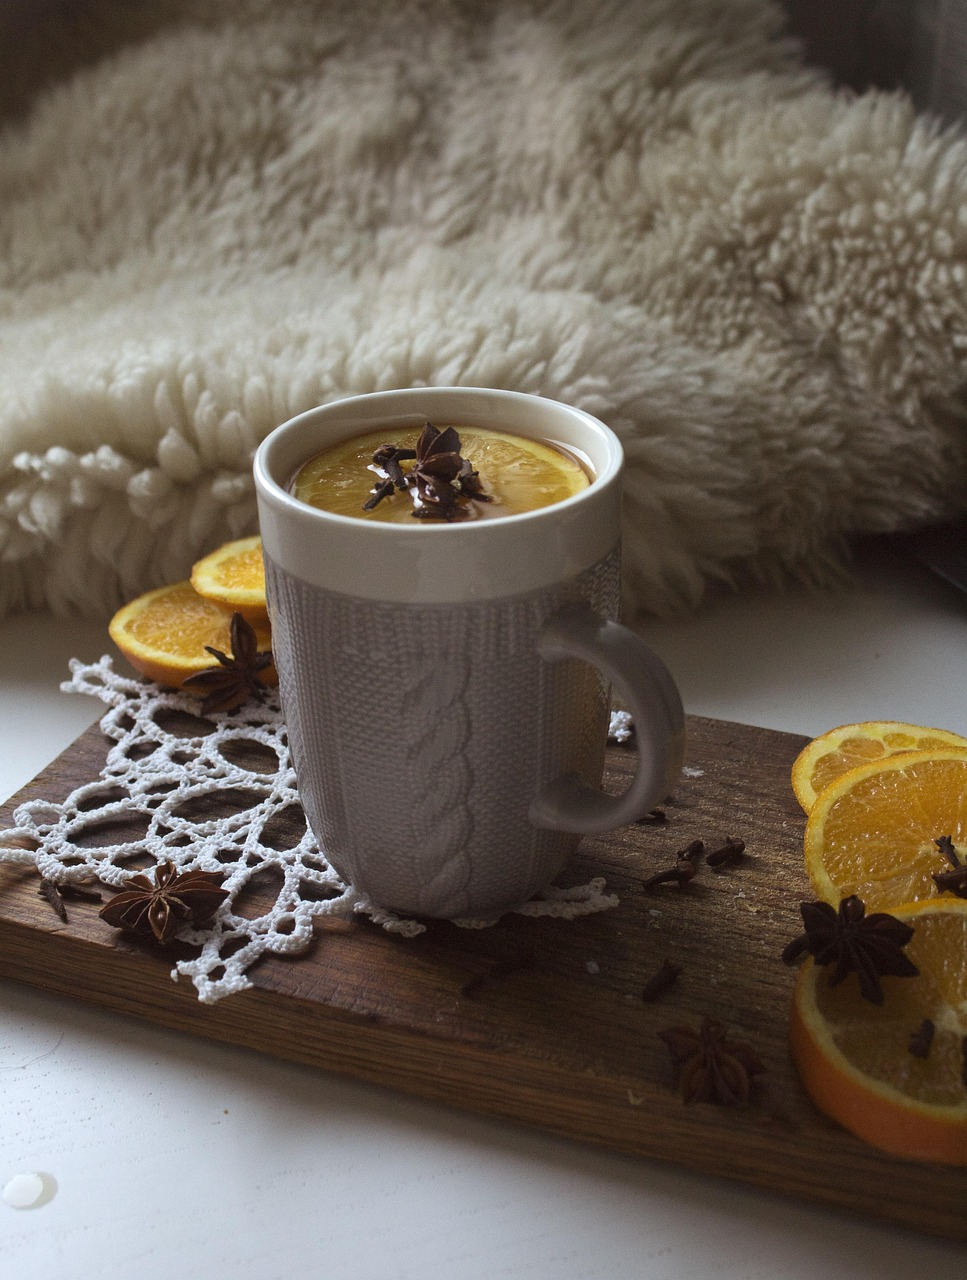mug: (258, 375, 681, 1006)
